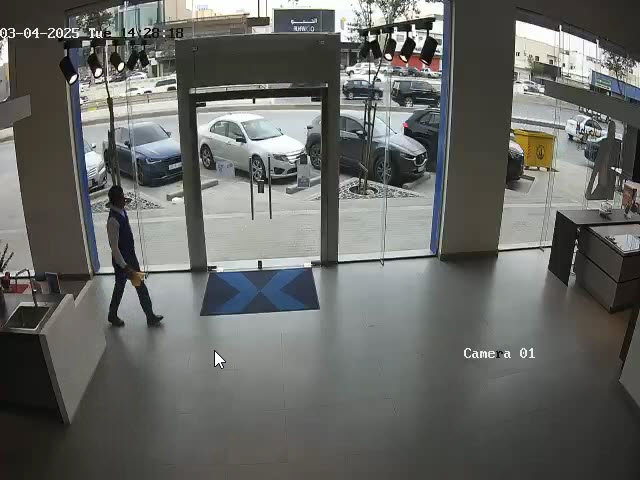employee: (105, 184, 164, 328)
